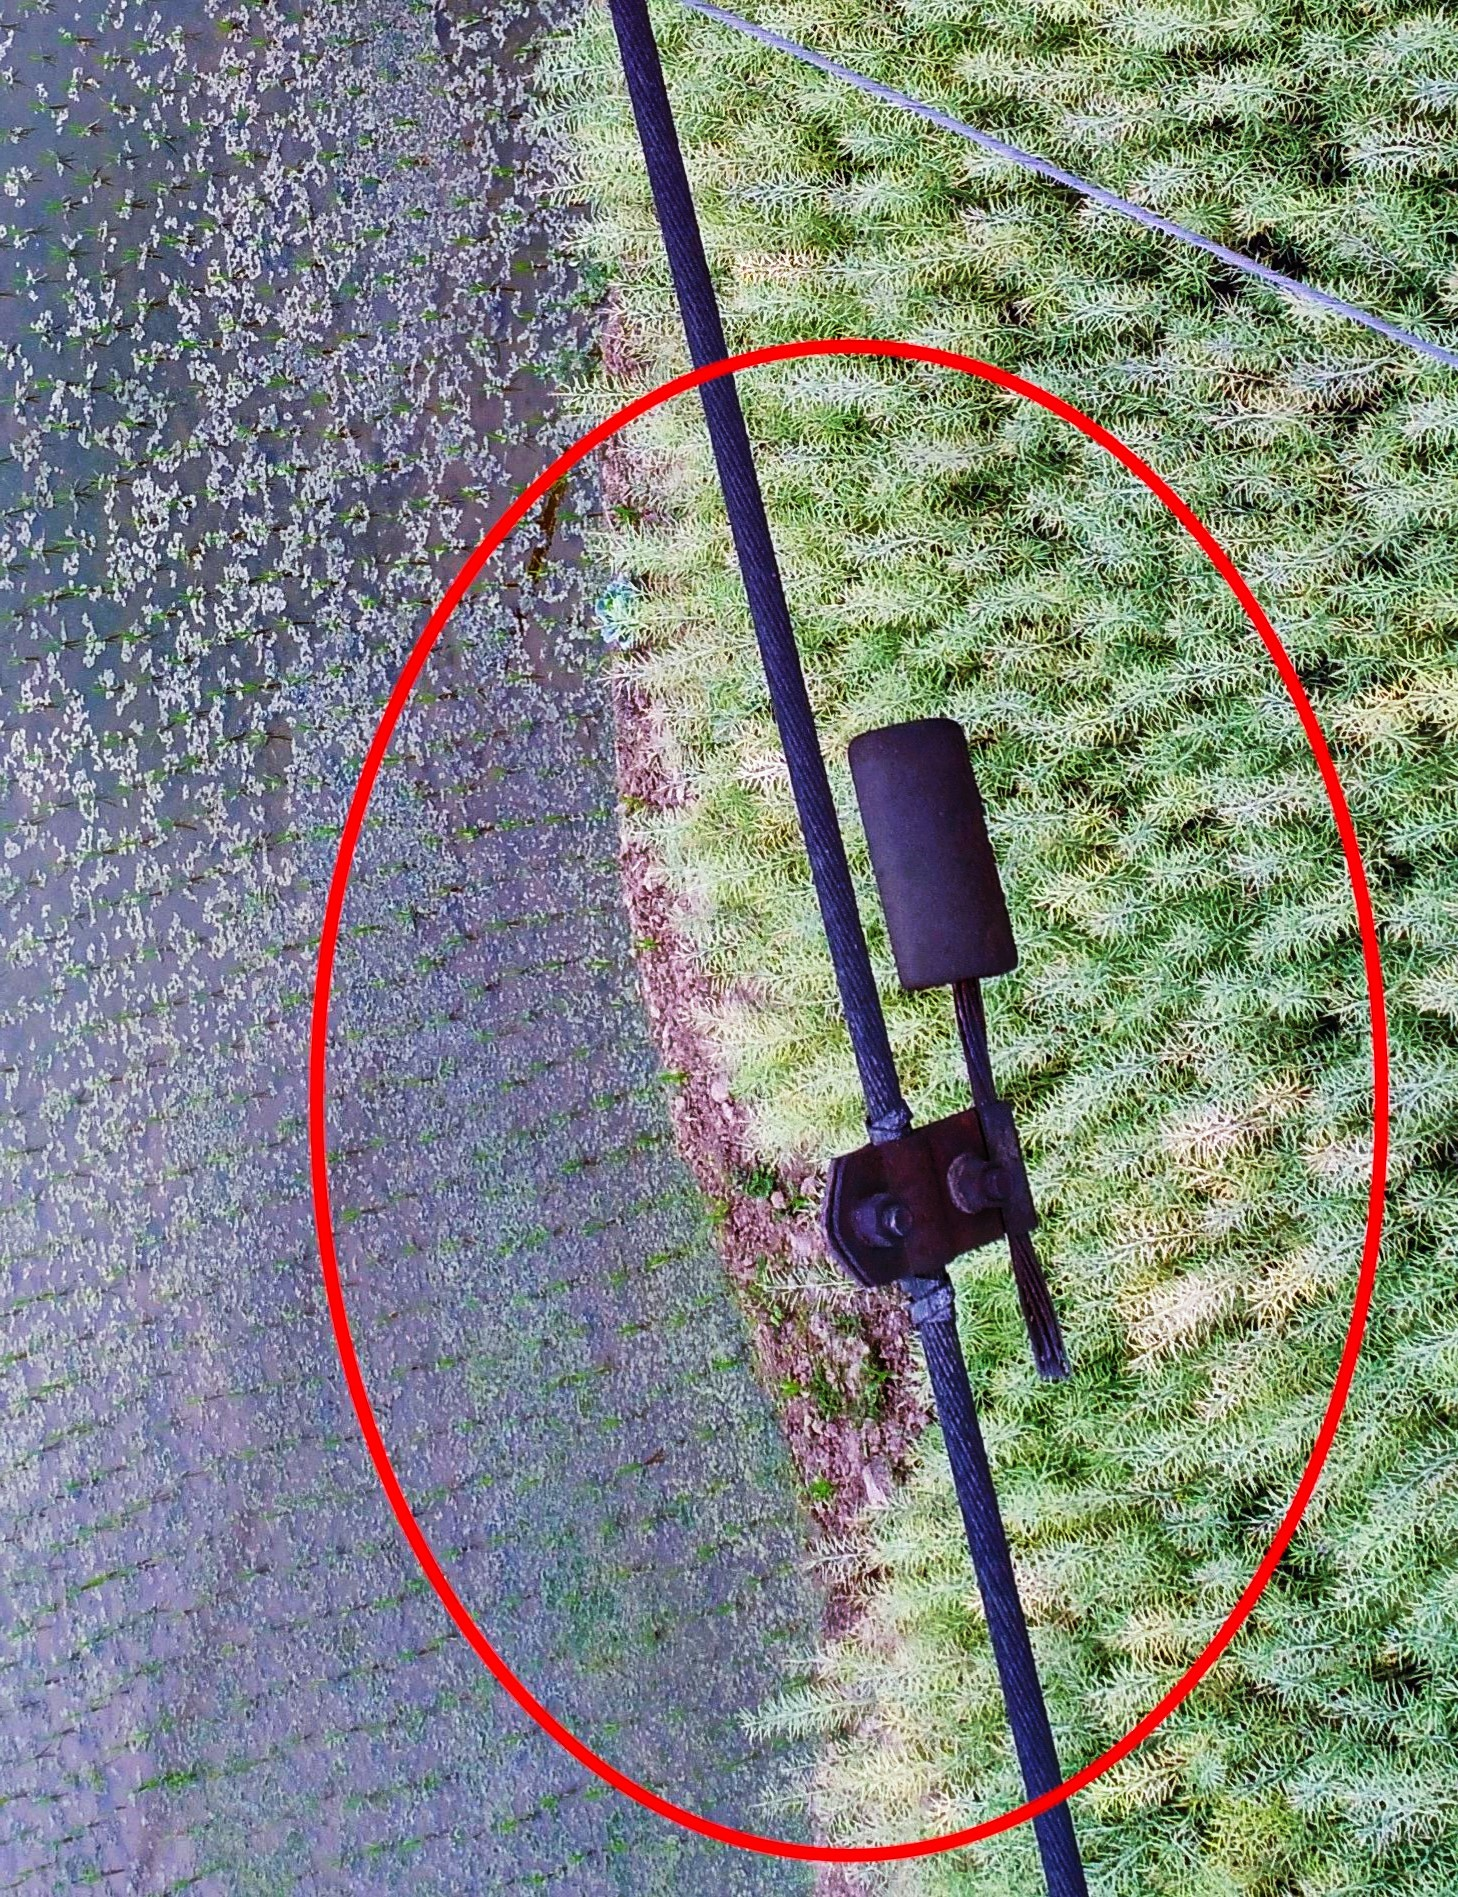Damage of shockproof hammer: (731, 687, 1169, 1415)
